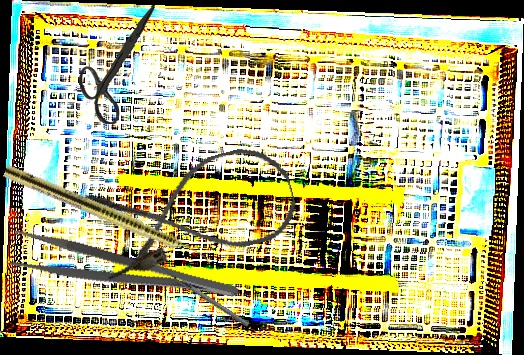Cannula: (83, 138, 303, 284)
Dressing Forceps: (5, 225, 243, 322)
Handpiece: (1, 163, 216, 268)
Iris Scissors: (75, 4, 162, 126)
Spatula Surgical: (143, 257, 250, 331)
